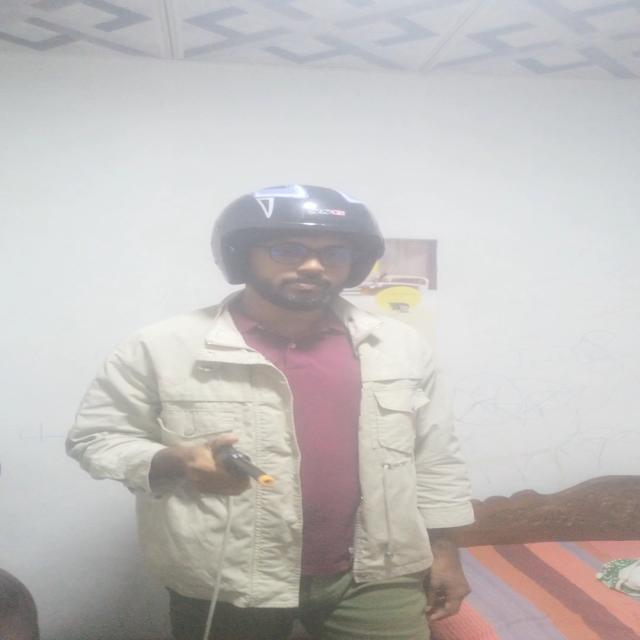Gun_Holder: (172, 427, 287, 503)
Helmet_Wearer: (198, 186, 414, 305)
Jacket_Wearer: (61, 293, 493, 584)
Person: (67, 183, 523, 640)
